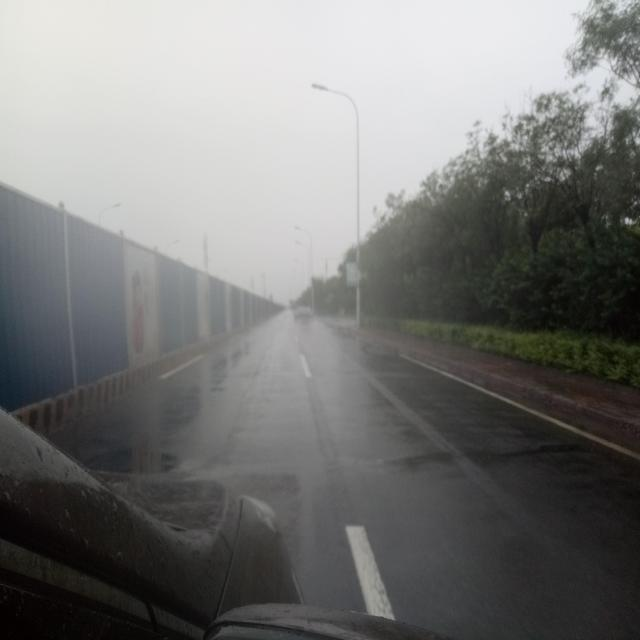car: (2, 406, 444, 636), (291, 306, 316, 324)
